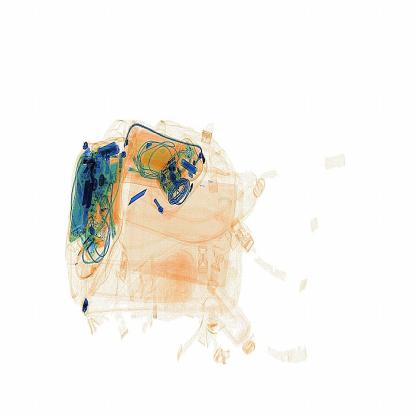pliers: (126, 183, 152, 216)
